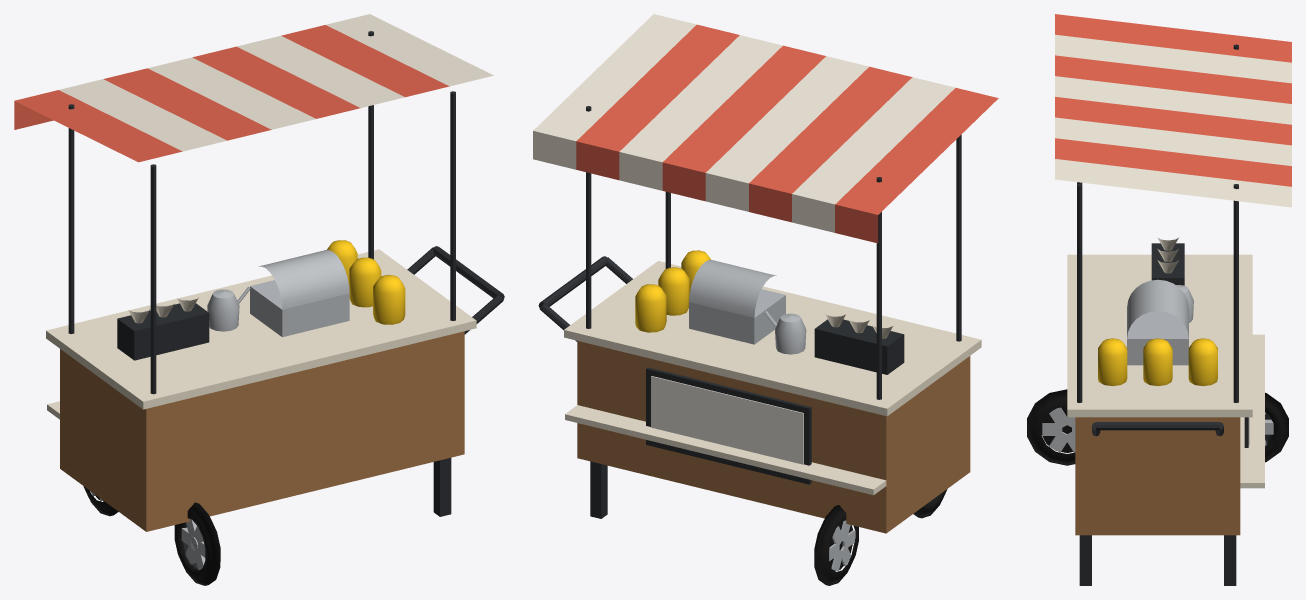
The model's file is vendor-cart.glb.
3 views of the same model, side by side, from view 1: azimuth 30°, elevation 25°; view 2: azimuth 150°, elevation 25°; view 3: azimuth 270°, elevation 25° (orthographic). The views are drawn at different scales.
Parts seen in each view (by area): view 1: cart, wheel_L; view 2: cart, sign_slot, wheel_R; view 3: cart, wheel_L, wheel_R.
Boxes of the visible parts, x1,y1,x2,y2 form: cart: (14,14,504,531); wheel_L: (174,502,220,585); cart: (533,14,998,533); sign_slot: (646,367,811,484); wheel_R: (814,505,858,585); cart: (1055,14,1291,585); wheel_L: (1027,389,1075,465); wheel_R: (1265,392,1288,462).
Bounding box in the file's own units: 2.07 × 2.25 × 1.28.
